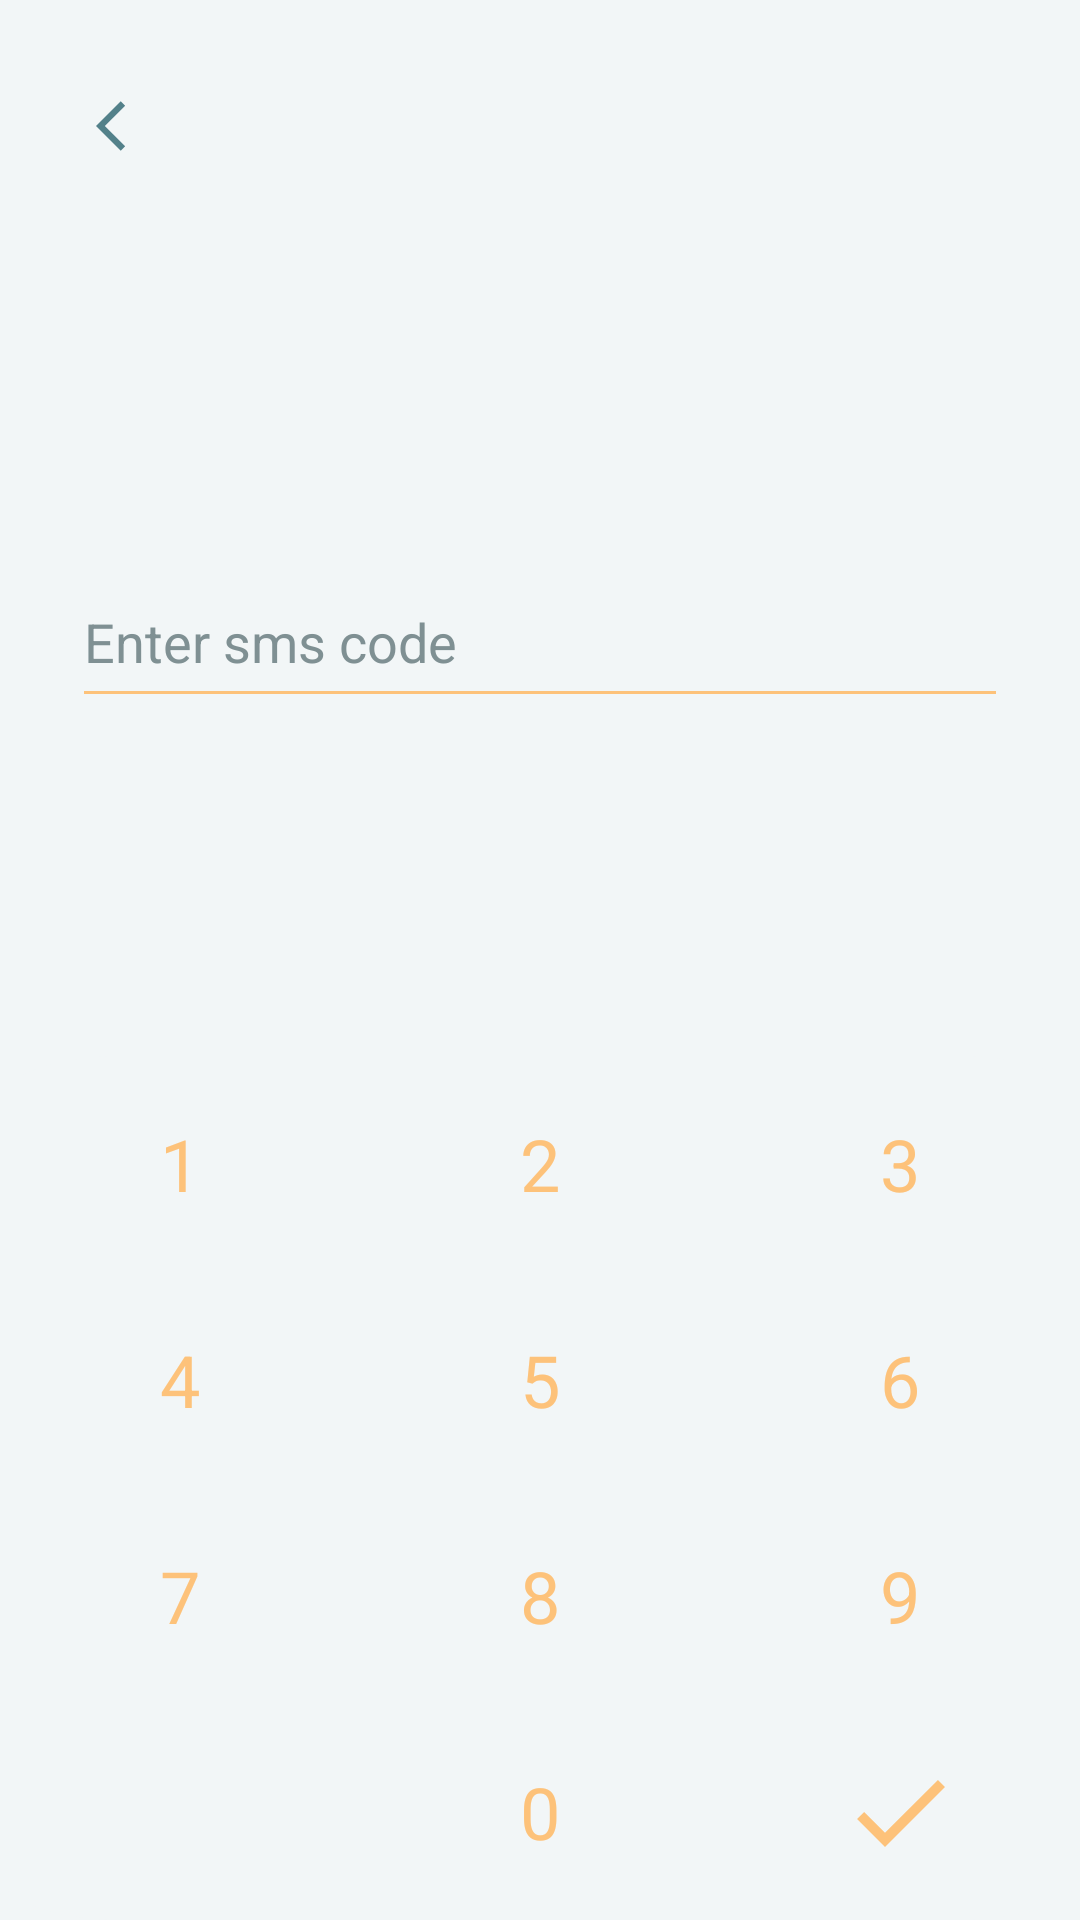

Screen size 1080x1920. Icon name, then its box in pixels as bbox=(x1, y1, x2, y2):
check: bbox=(857, 1780, 945, 1847)
